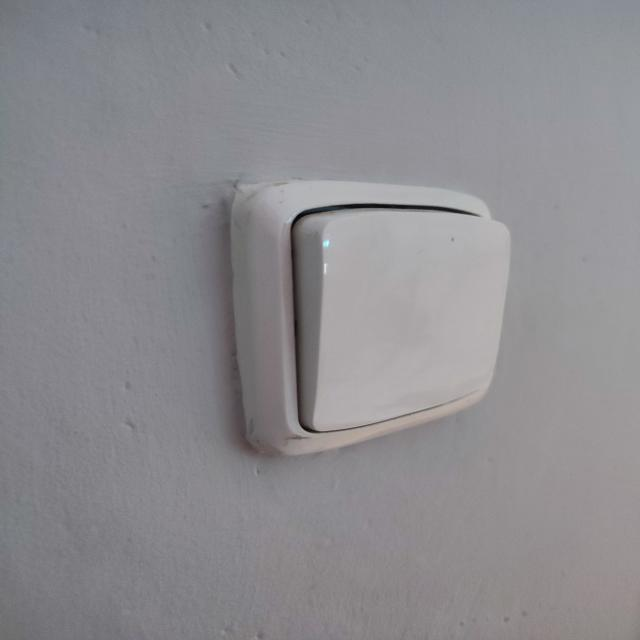house switch: (233, 180, 510, 460)
